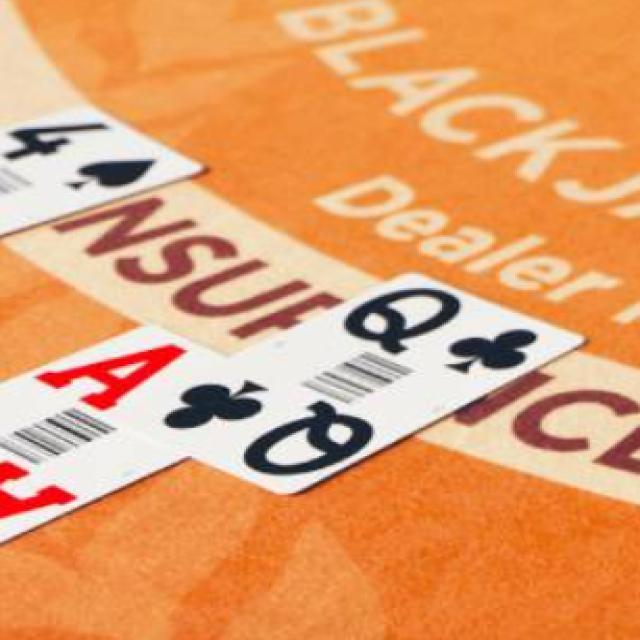Card-4: (1, 106, 205, 235)
Card-A: (0, 324, 223, 544)
Card-Q: (111, 269, 584, 494)
